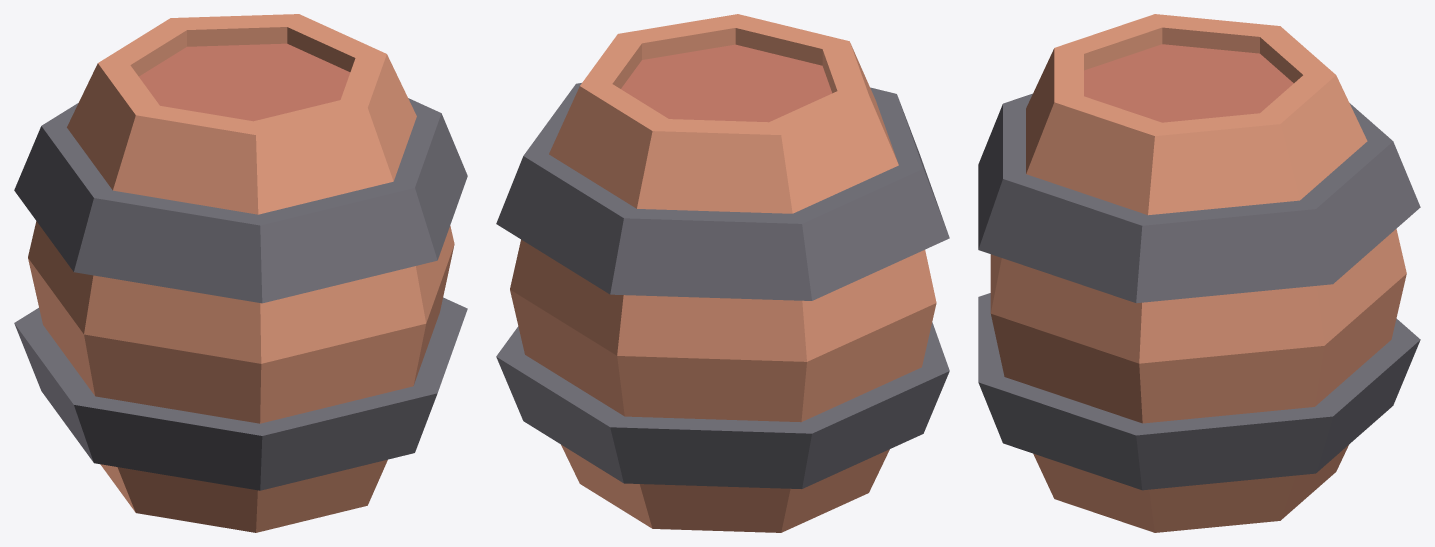
File: barrel_test.fbx
3 renders of one model, left to right at view 1: azimuth 30°, elevation 25°; view 2: azimuth 150°, elevation 25°; view 3: azimuth 270°, elevation 25°, orthographic.
Parts seen in each view (by area): view 1: Cylinder; view 2: Cylinder; view 3: Cylinder.
Part boxes in pixels (x1=…): Cylinder: x1=14, y1=14, x2=467, y2=532; Cylinder: x1=496, y1=14, x2=949, y2=532; Cylinder: x1=978, y1=14, x2=1420, y2=532.
Bounding box in the file's own units: 104 × 100 × 101.
